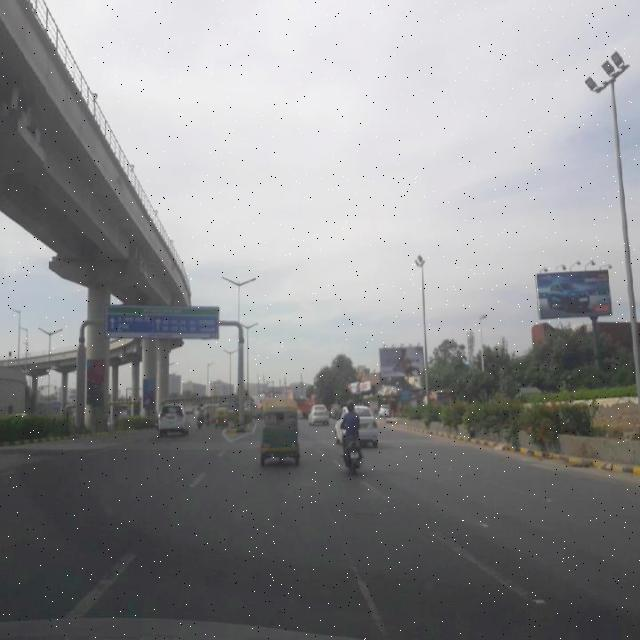D00: (339, 531, 385, 629)
D44: (419, 519, 548, 604)
